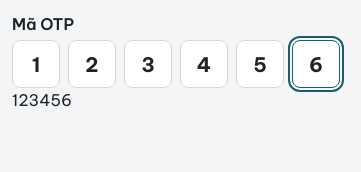
Test: HomeCare form input components (TC-US-15-012-2) › supports digit typing, paste splitting, and backspace in HcOtpField
The image size is (361, 172).
Later steps or results of the test are not shown.
Expected: the text with test id "otp-value" reads "123456", [12,90,72,110]
Replace the text in the field named "Số OTP thứ 2" with "9" at (92, 64), box [68,40,116,88]
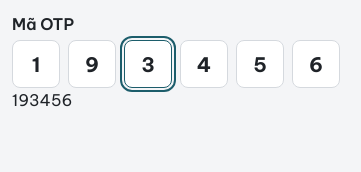
Now the text with test id "otp-value" reads "193456", box [12,90,72,110]
